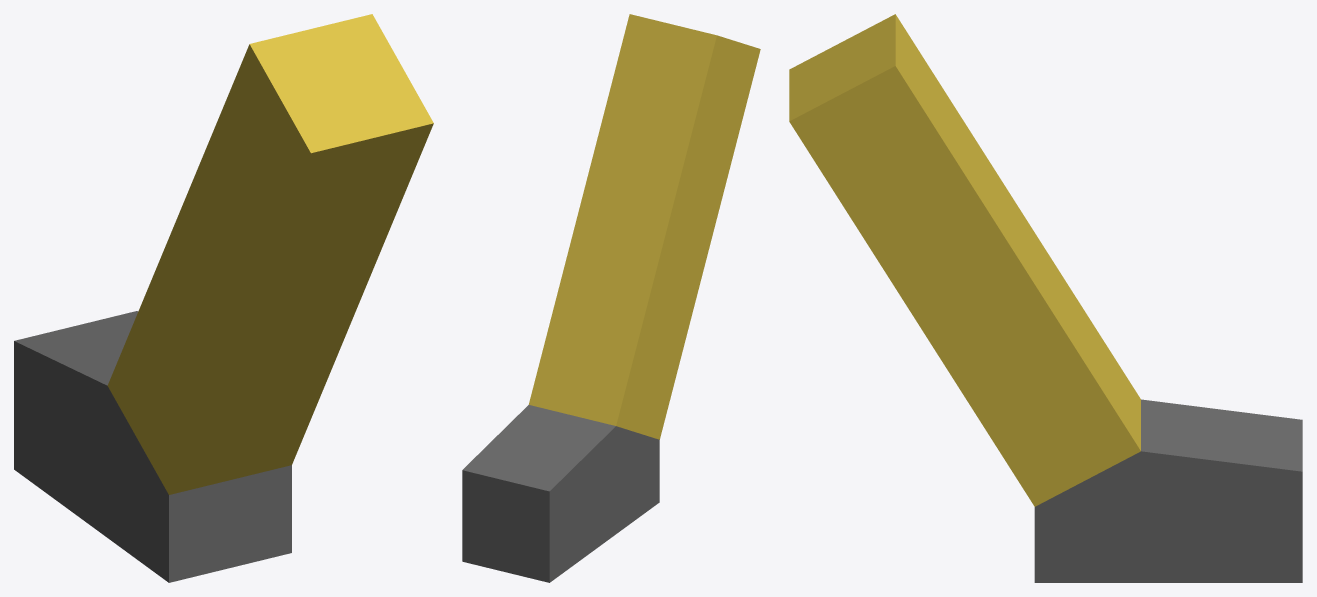
File: Stick.fbx
3 renders of one model, left to right at view 1: azimuth 30°, elevation 25°; view 2: azimuth 150°, elevation 25°; view 3: azimuth 270°, elevation 25°, orthographic. The views are drawn at different scales.
Parts seen in each view (by area): view 1: Group1; view 2: Group1; view 3: Group1.
Boxes of the visible parts, bbox=[...] form: Group1: bbox=[14, 14, 433, 582]; Group1: bbox=[462, 14, 760, 582]; Group1: bbox=[789, 14, 1302, 582].
Size of the model in its own units: 19.05 by 88.53 by 79.69.
